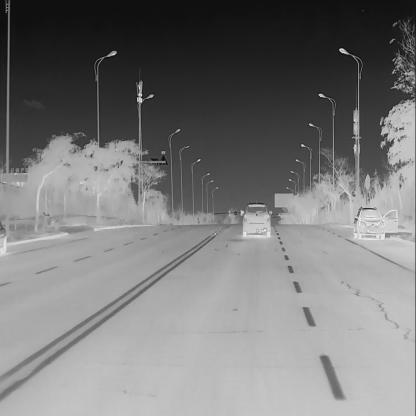car: (242, 201, 272, 238), (354, 206, 386, 240), (0, 219, 8, 254)
